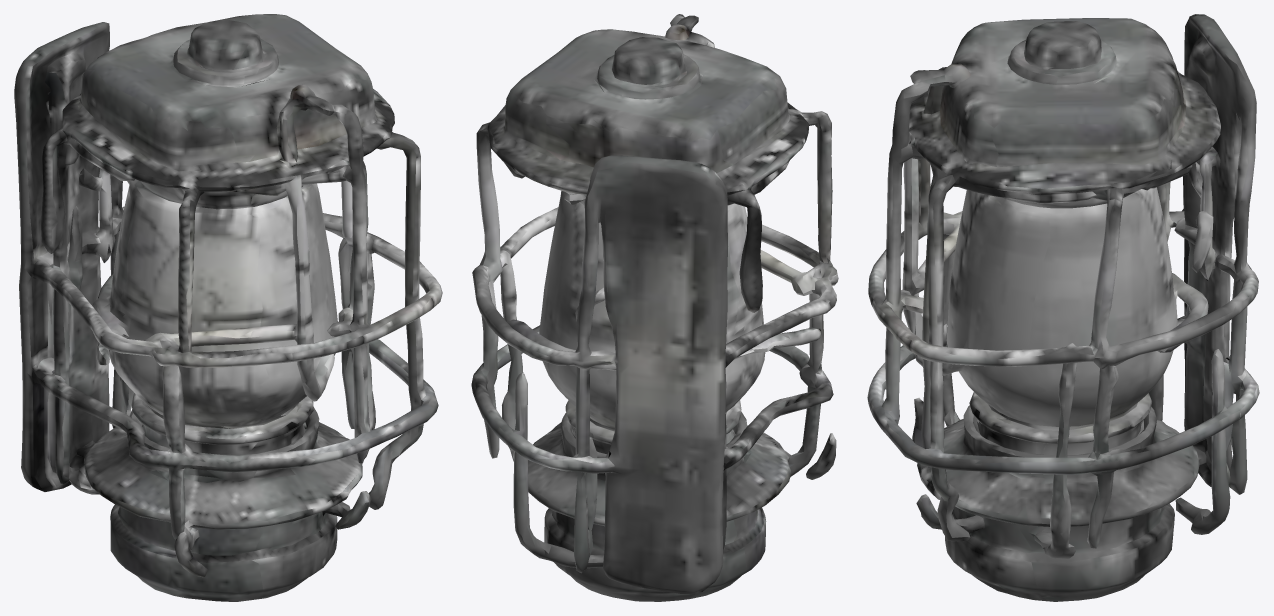
The model's file is caged-wall-lamp.glb.
3 views of the same model, side by side, from view 1: azimuth 30°, elevation 25°; view 2: azimuth 150°, elevation 25°; view 3: azimuth 270°, elevation 25° (orthographic). The views are drawn at different scales.
Visible parts, largest first — view 1: cowninja-caged-wall-lamp; view 2: cowninja-caged-wall-lamp; view 3: cowninja-caged-wall-lamp.
Part boxes in pixels (x1,y1,x2,y2): cowninja-caged-wall-lamp: (14, 14, 442, 601); cowninja-caged-wall-lamp: (471, 14, 838, 601); cowninja-caged-wall-lamp: (867, 14, 1259, 601).
Bounding box in the file's own units: 0.2201 × 0.3501 × 0.2332.
Materials: 1 (1 with a texture image).
